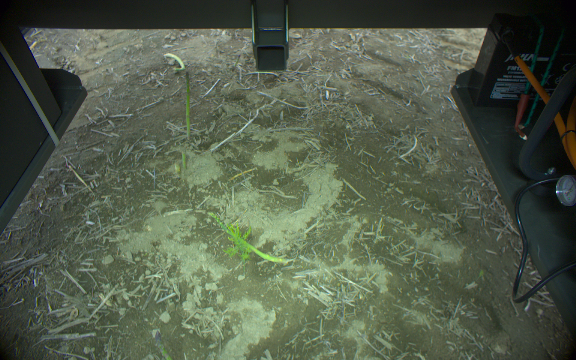aspa: (206, 209, 288, 270), (154, 330, 173, 360), (184, 70, 192, 141), (164, 52, 188, 72), (178, 150, 188, 168)
